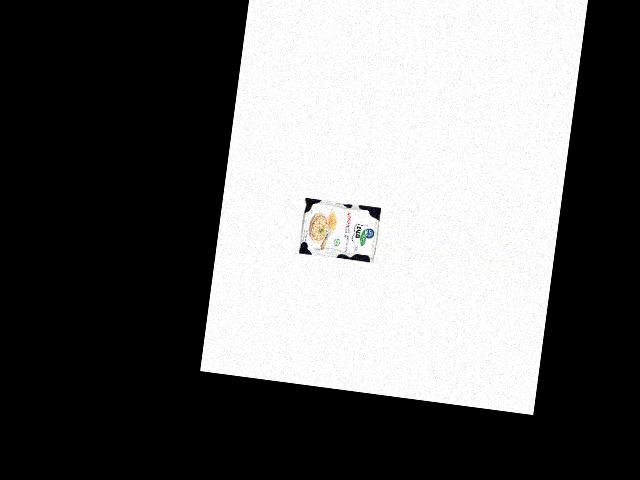cheese: (296, 195, 382, 264)
